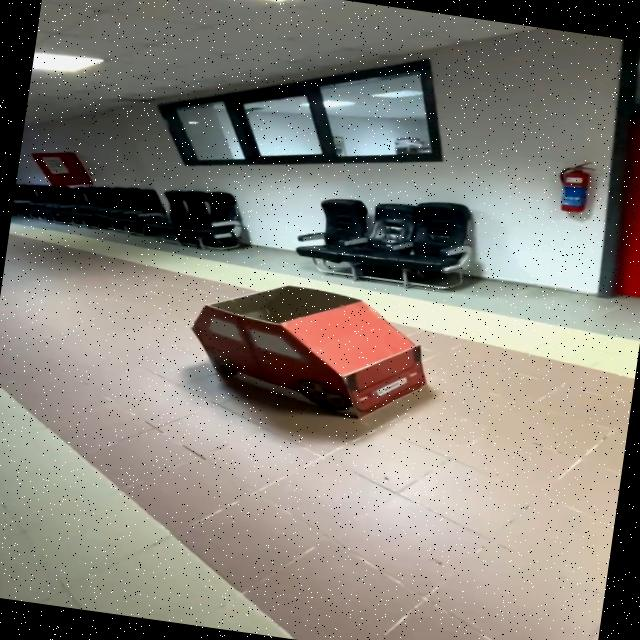red_car: (131, 246, 466, 440)
